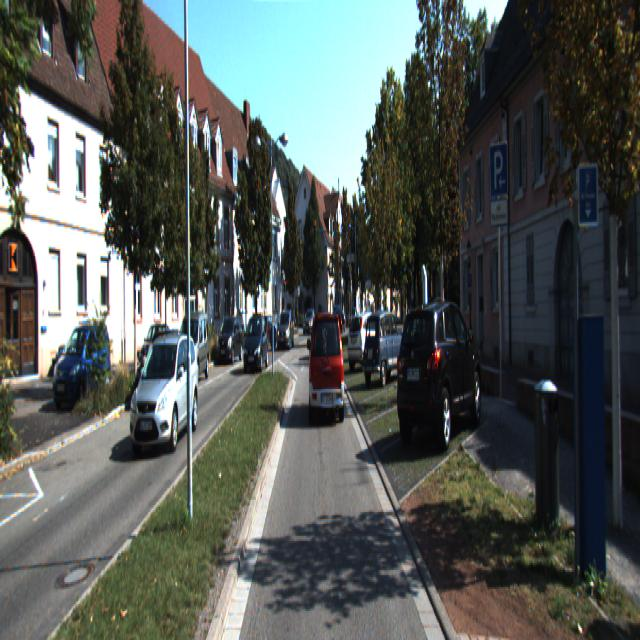Car: (393, 296, 484, 450), (128, 328, 200, 457), (51, 320, 111, 405), (134, 328, 189, 411), (309, 312, 345, 425), (362, 306, 410, 388), (55, 317, 112, 376), (176, 310, 210, 388), (347, 310, 388, 368), (243, 314, 270, 374), (216, 316, 242, 365), (253, 316, 276, 350), (277, 310, 294, 350), (332, 307, 347, 335), (303, 310, 317, 335)
